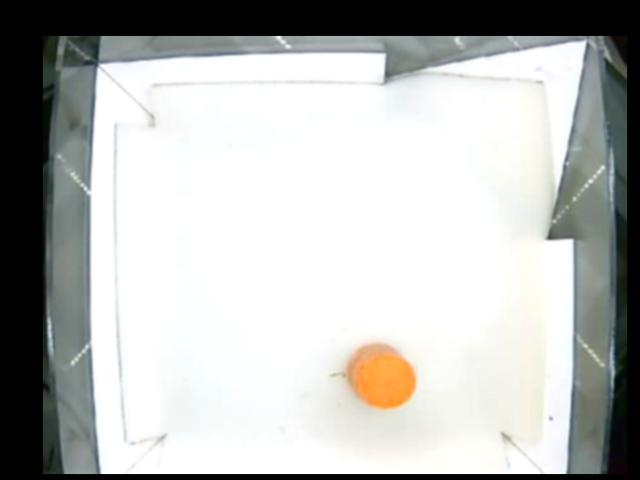Carrot: (347, 342, 414, 410)
